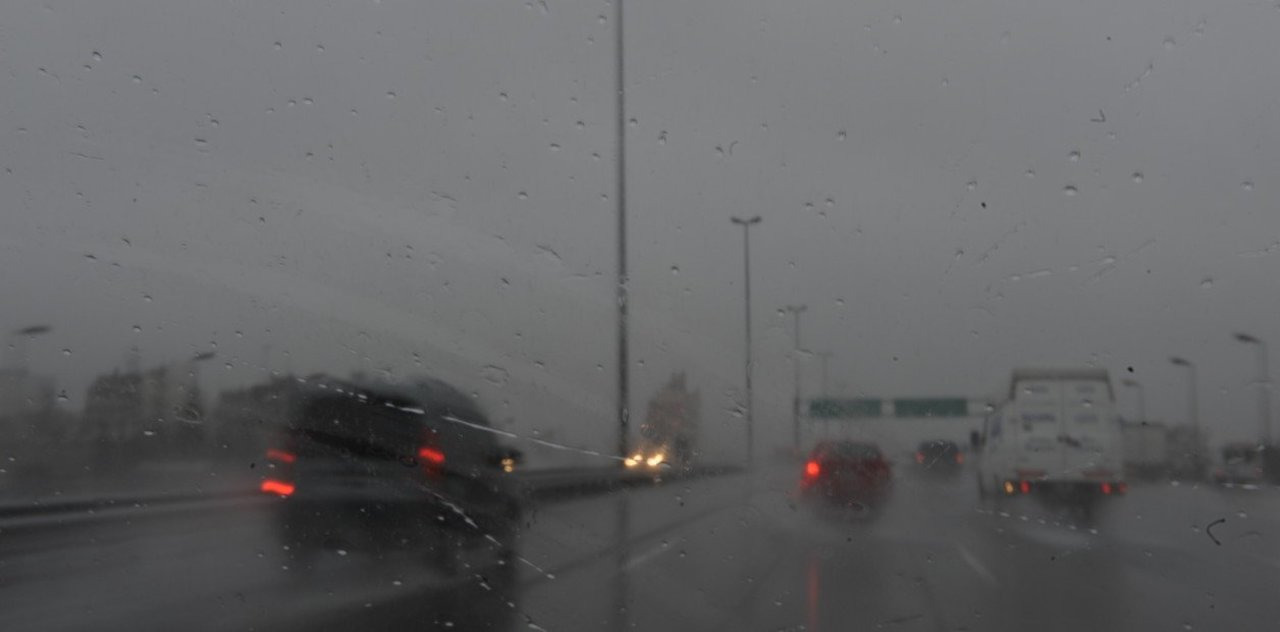car: (260, 379, 522, 583), (971, 403, 1124, 516), (798, 437, 894, 512), (910, 434, 964, 476)
